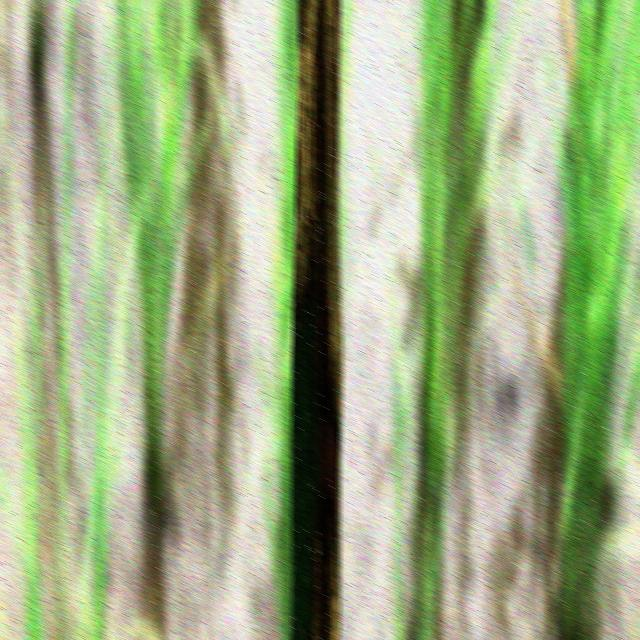BLB: (292, 0, 343, 640)
